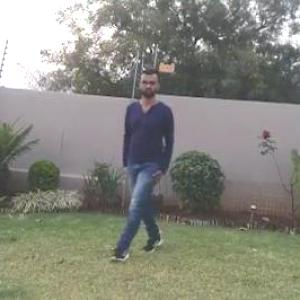follow: (122, 69, 185, 254)
